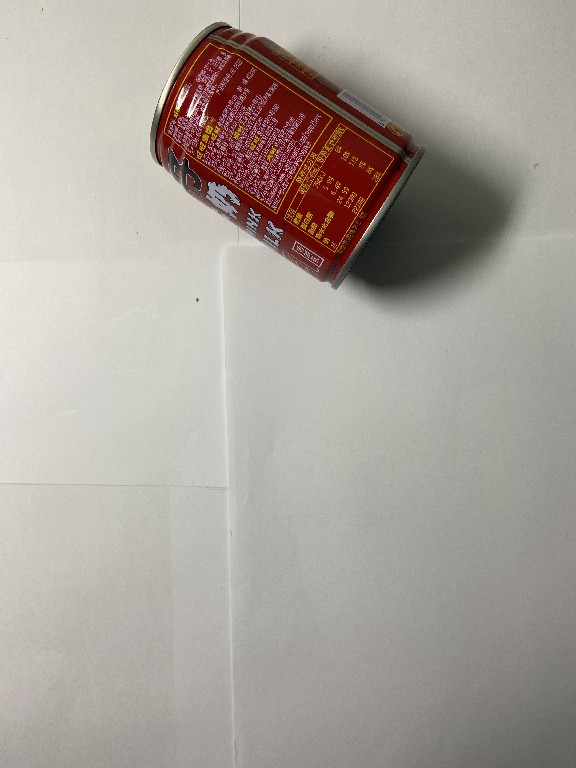can: (142, 15, 429, 294)
